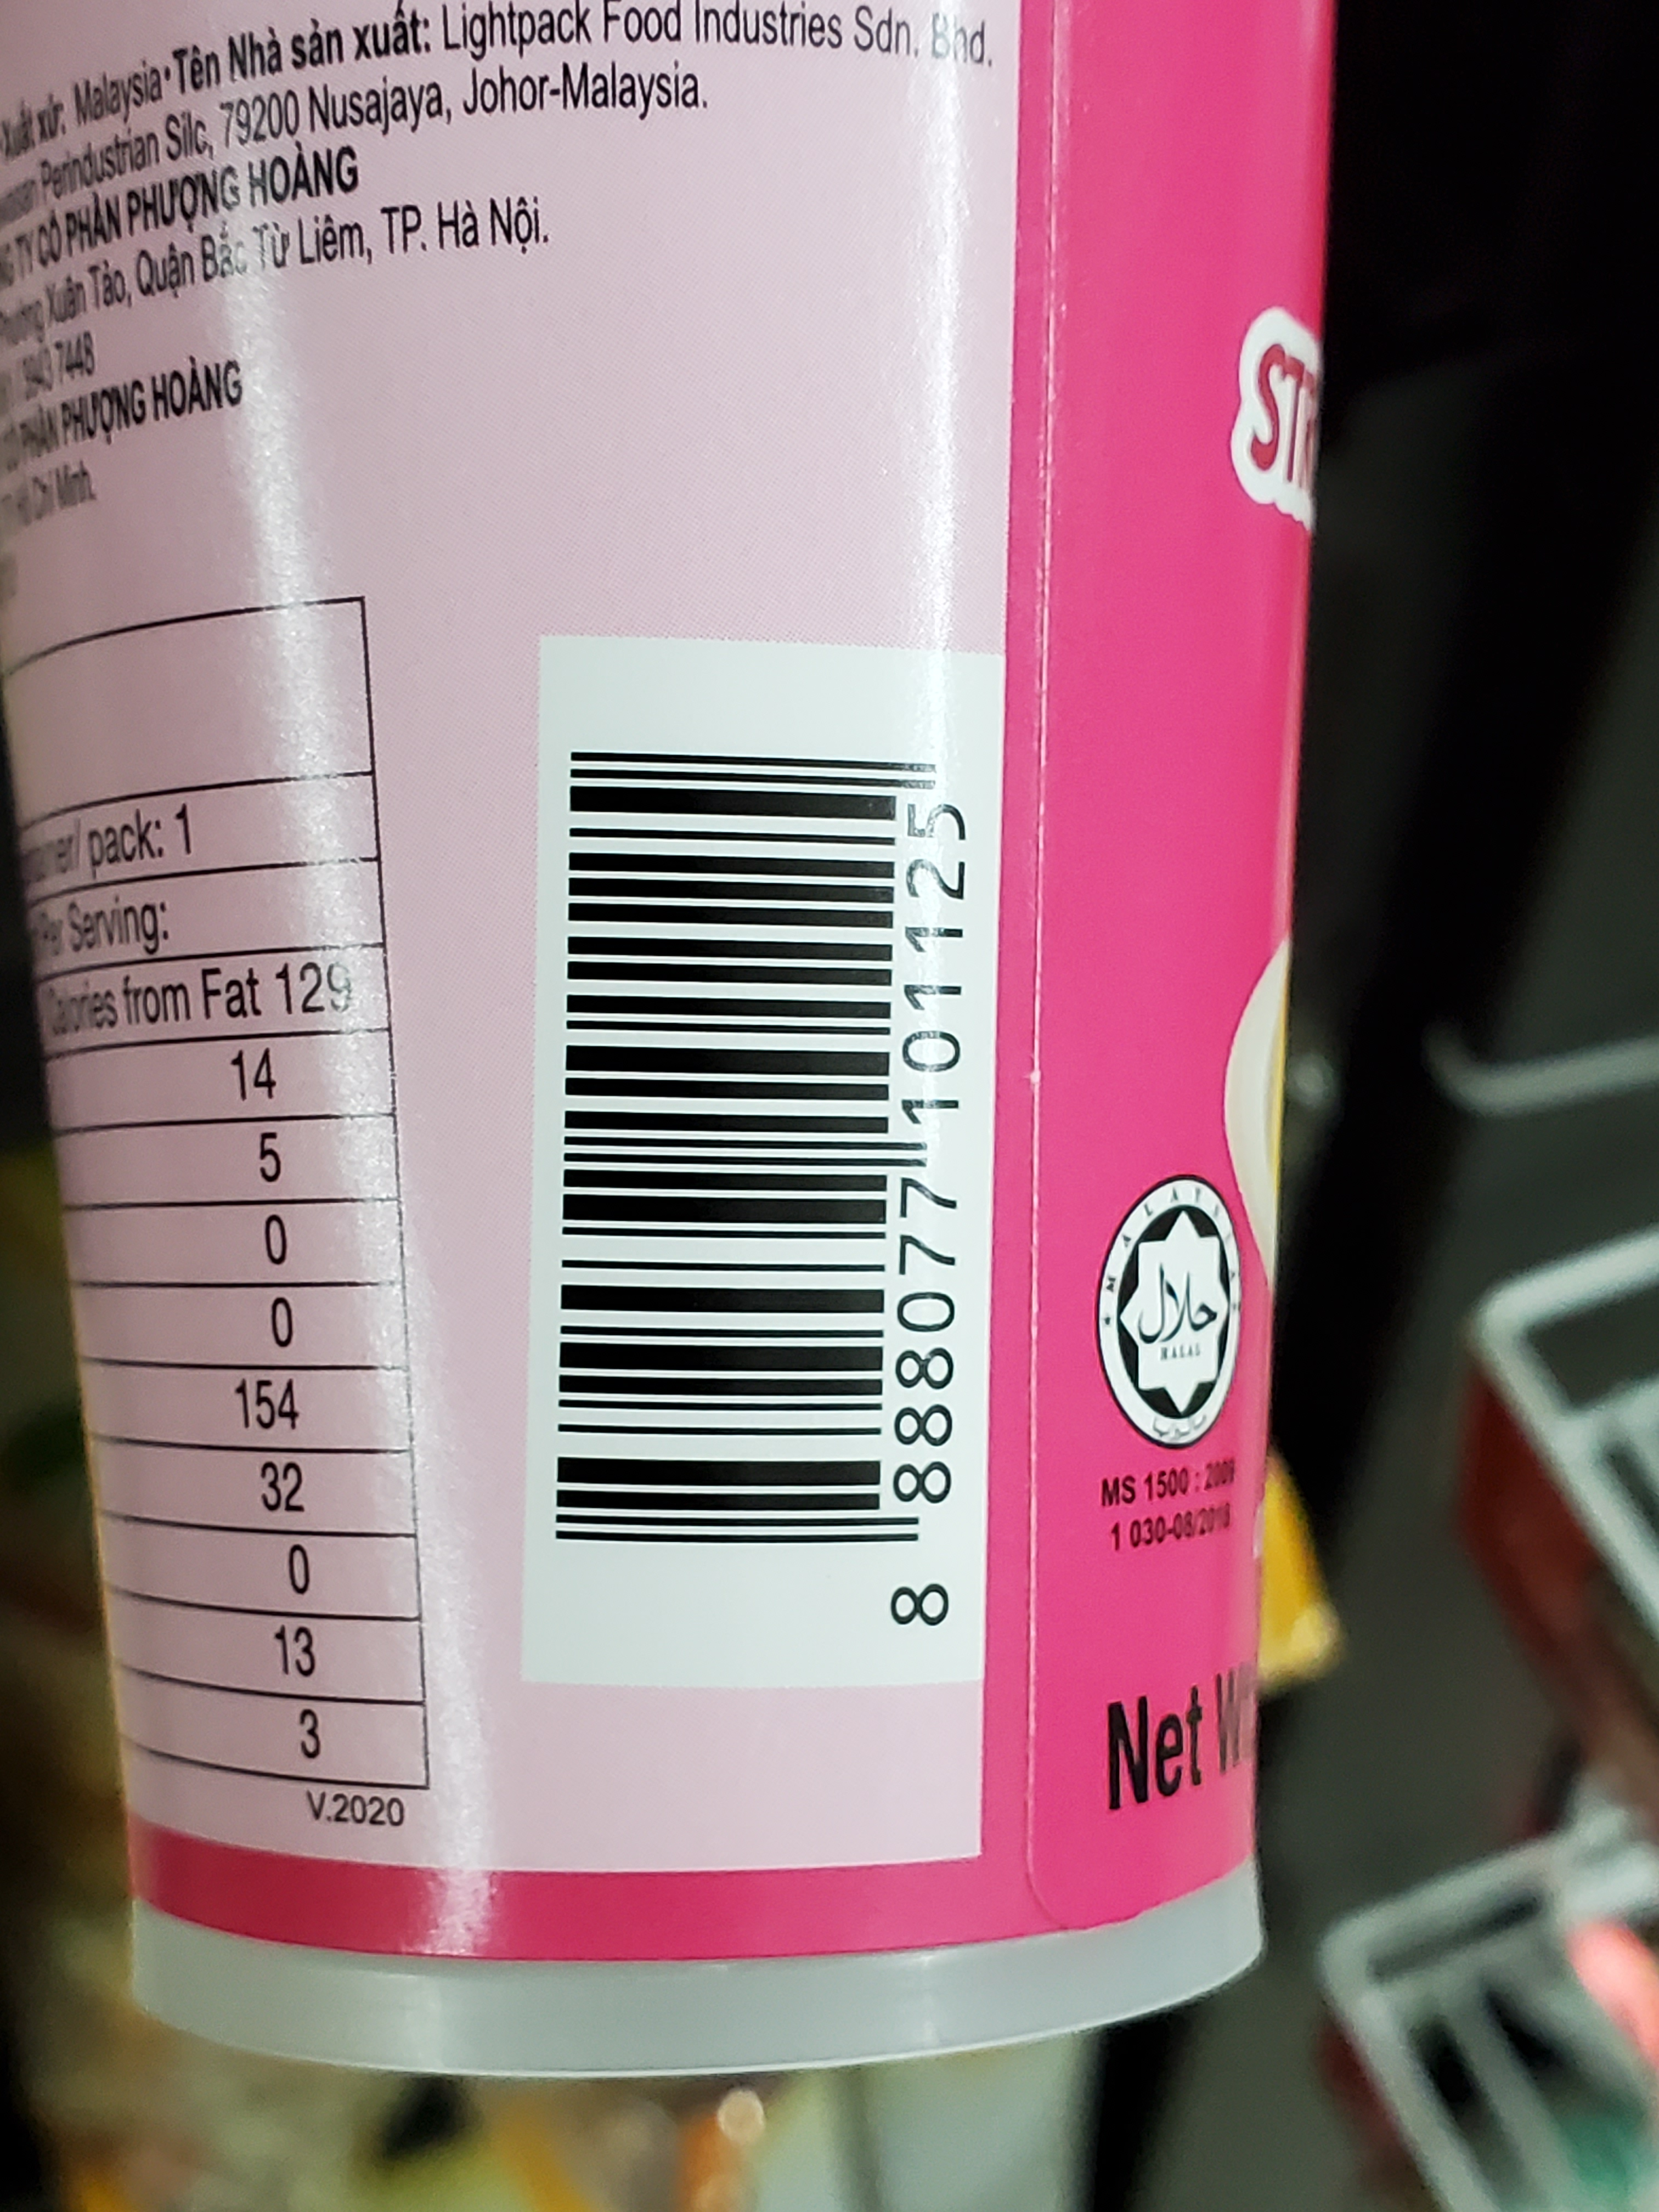barcode: (525, 632, 983, 1677)
